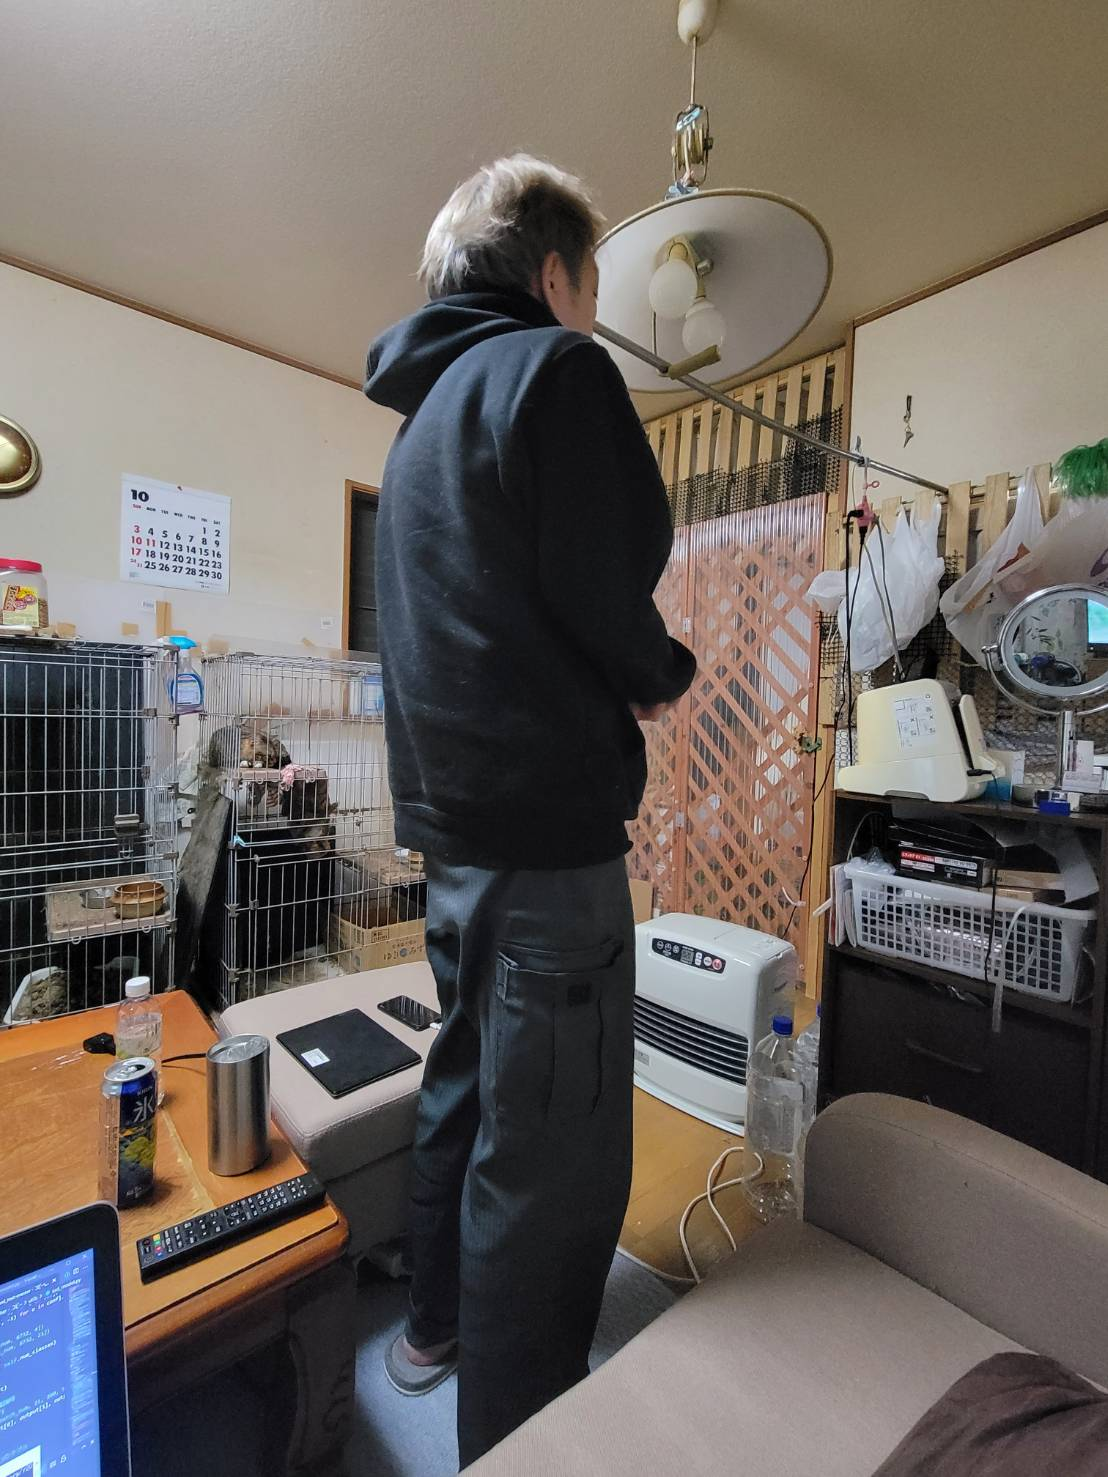male: (360, 155, 703, 1477)
